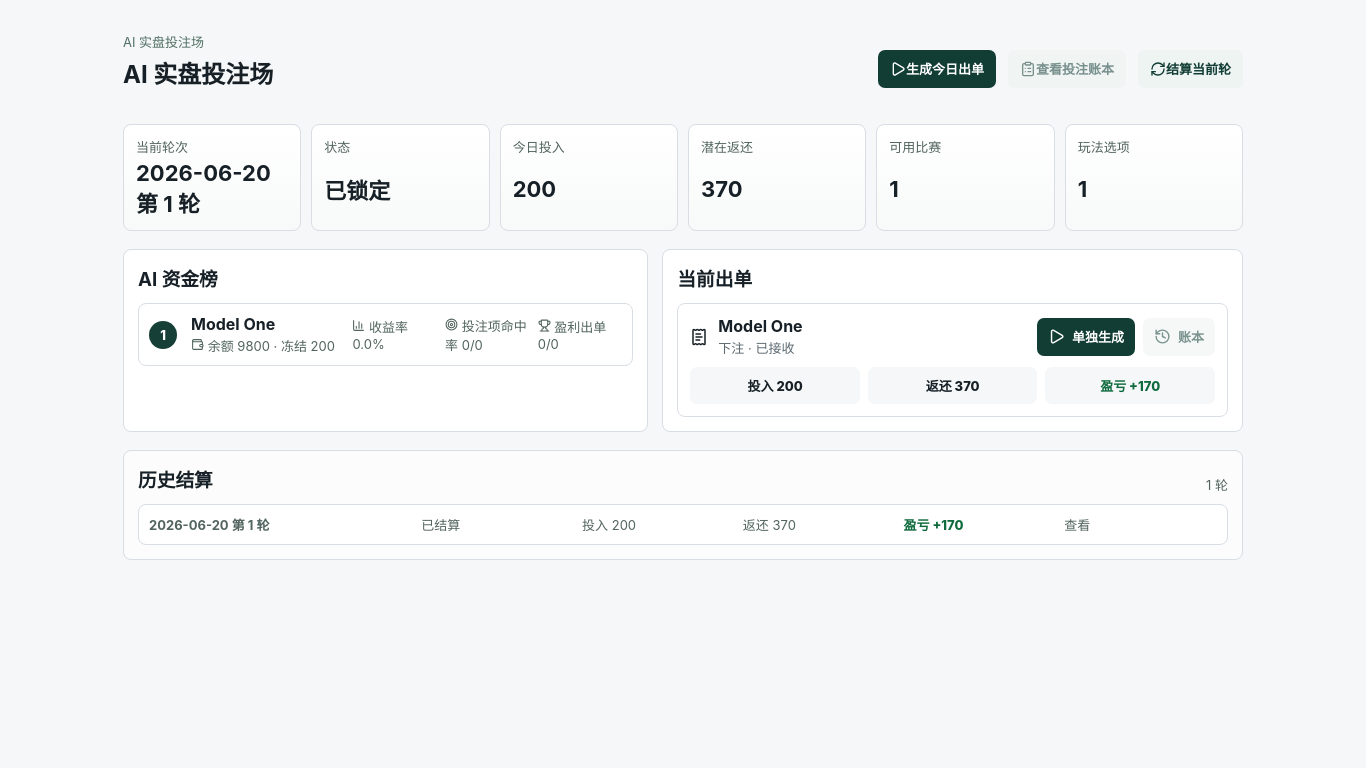
BettingArenaPage › loads historical round details and opens one historical model slip
Click the button with aria-label "查看 2026-06-20 第 1 轮历史结算" at (189, 525), box [138,504,1228,545]
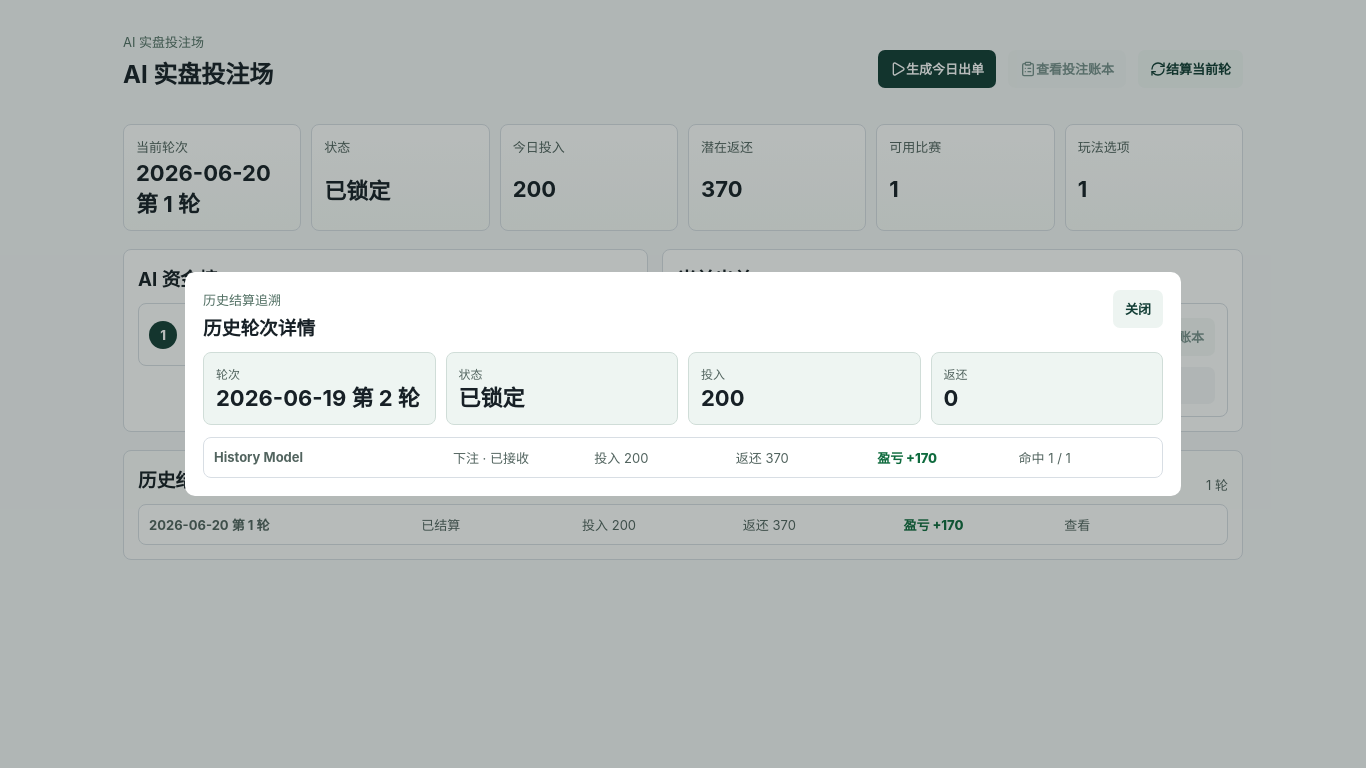
Check: the heading "历史轮次详情" is shown, box [203,313,315,340]
Check: the text "2026-06-19 第 2 轮" is shown, box [216,386,422,412]
Check: the text "History Model" is shown, box [214,449,303,465]
Click the button with aria-label "查看 History Model 历史出单" at (259, 457), box [203,437,1163,478]
(page scrolled)
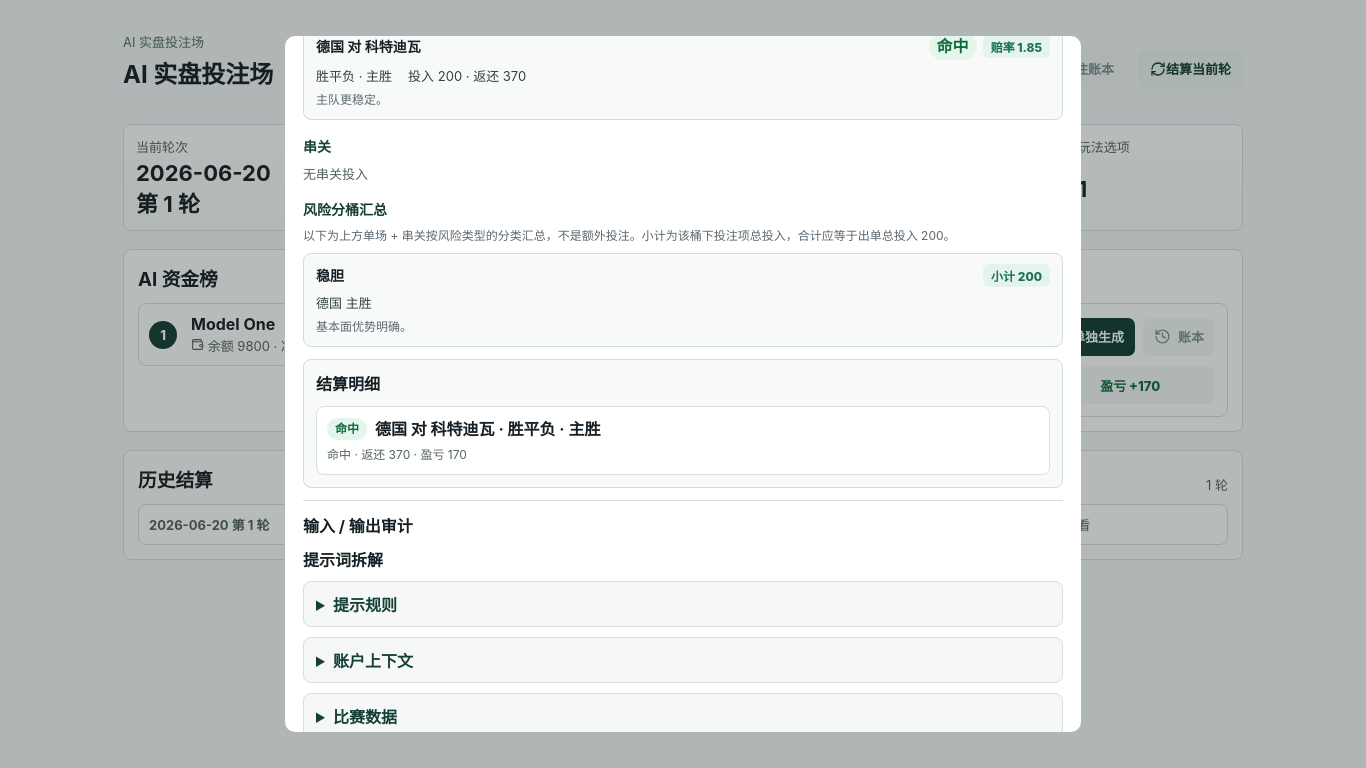
Check: the text "结算明细" is shown, box [316,374,380,394]
